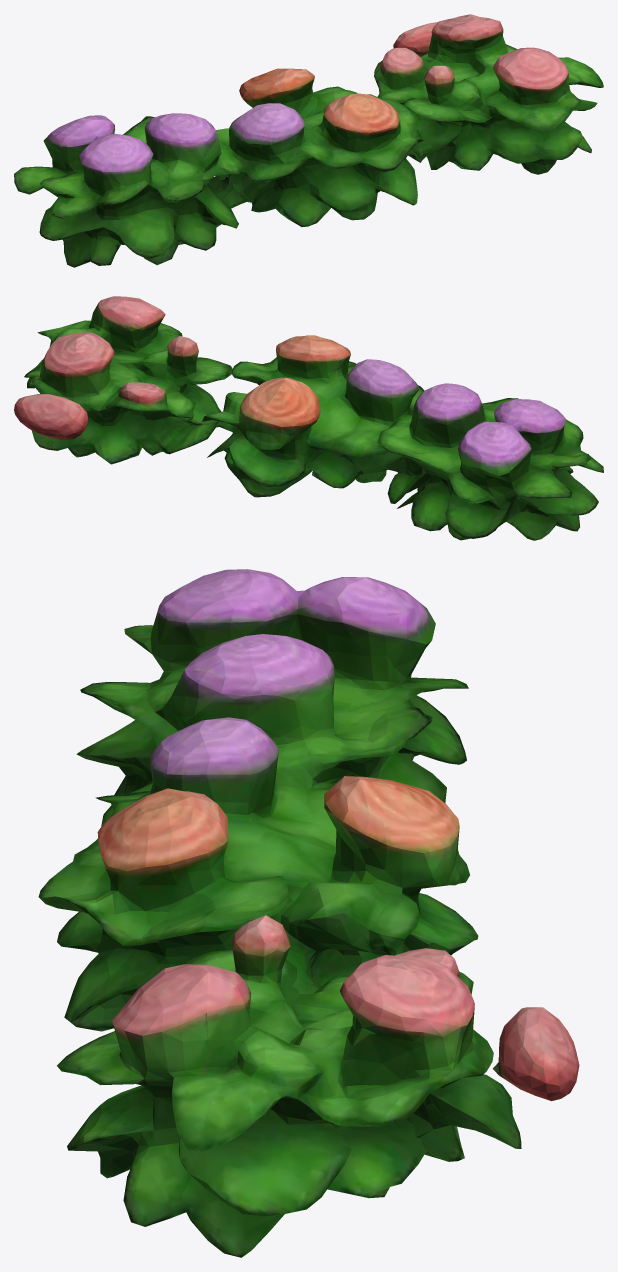
File: flowers_wild.glb
3 renders of one model, top to bottom at view 1: azimuth 30°, elevation 25°; view 2: azimuth 150°, elevation 25°; view 3: azimuth 270°, elevation 25°, orthographic. The views are drawn at different scales.
Parts seen in each view (by area): view 1: world; view 2: world; view 3: world.
Boxes of the visible parts, x1,y1,x2,y2 form: world: [14, 14, 603, 267]; world: [14, 296, 603, 540]; world: [38, 569, 579, 1257].
Bounding box in the file's own units: 0.997 × 0.2004 × 0.4242.
1 material, 1 textured.
